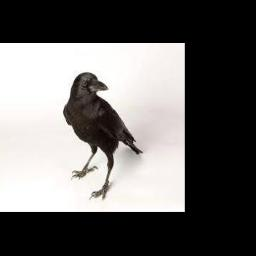Crow: (63, 71, 143, 201)
